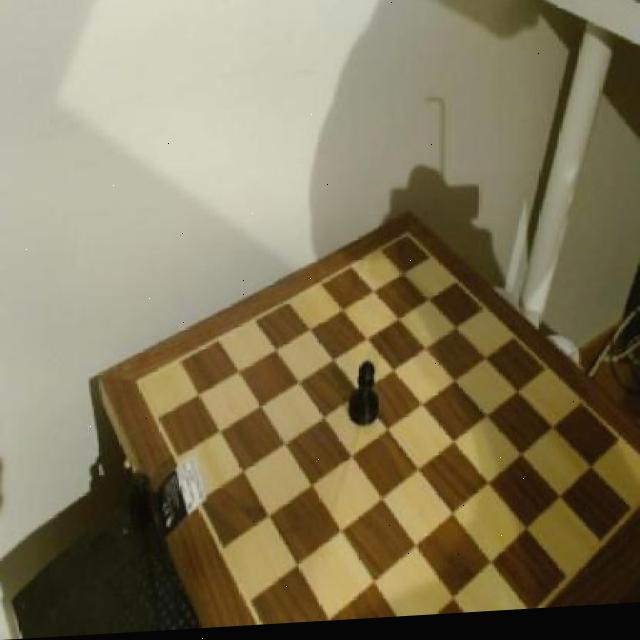black-knight: (343, 358, 383, 433)
